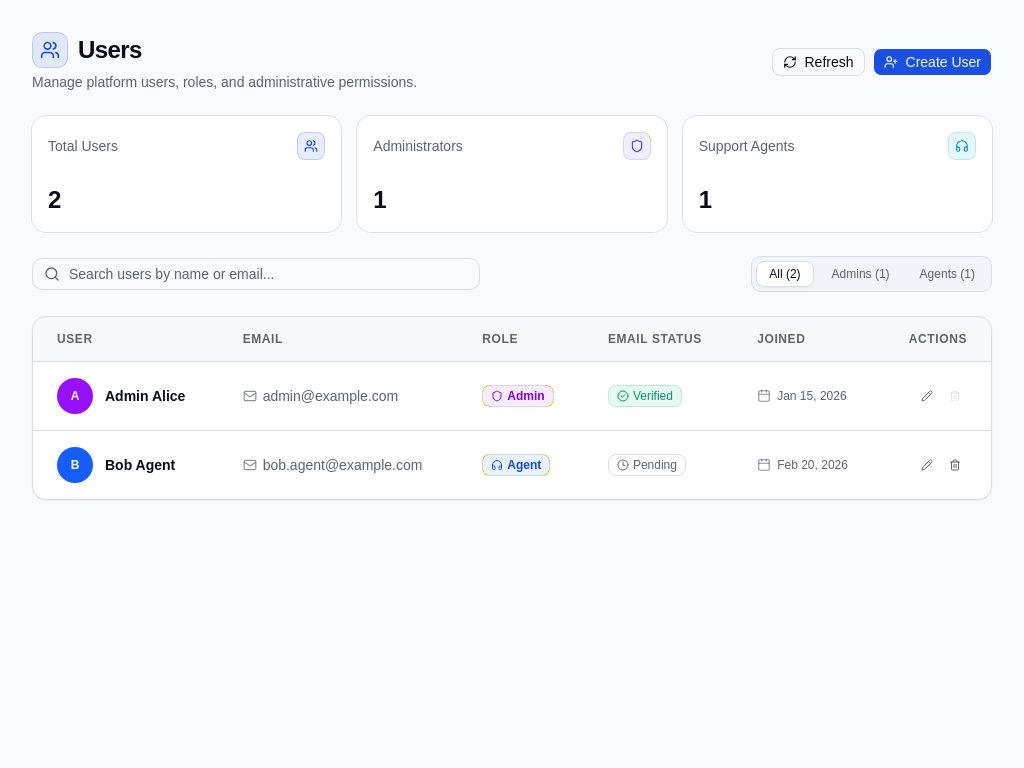
UsersPage Component › 9. Edit User Modal Integration › opens edit modal pre-populated with user data when edit button is clicked
Expected: the text "Bob Agent" is shown, [105, 457, 175, 473]
Click the button named "Edit Bob Agent": (927, 465) [915, 453, 939, 477]
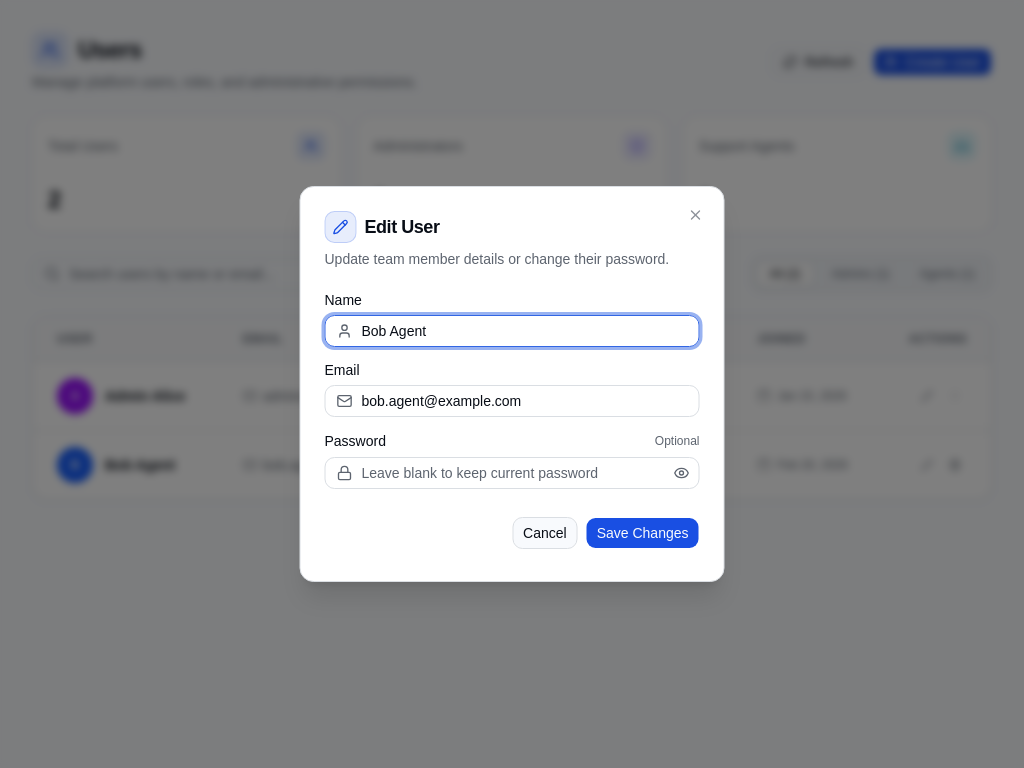
Expected: the heading "Edit User" is shown, [364, 218, 440, 236]
Expected: the field labelled "Name" holds "Bob Agent", [324, 315, 700, 347]
Expected: the field labelled "Email" holds "bob.agent@example.com", [324, 385, 700, 417]
